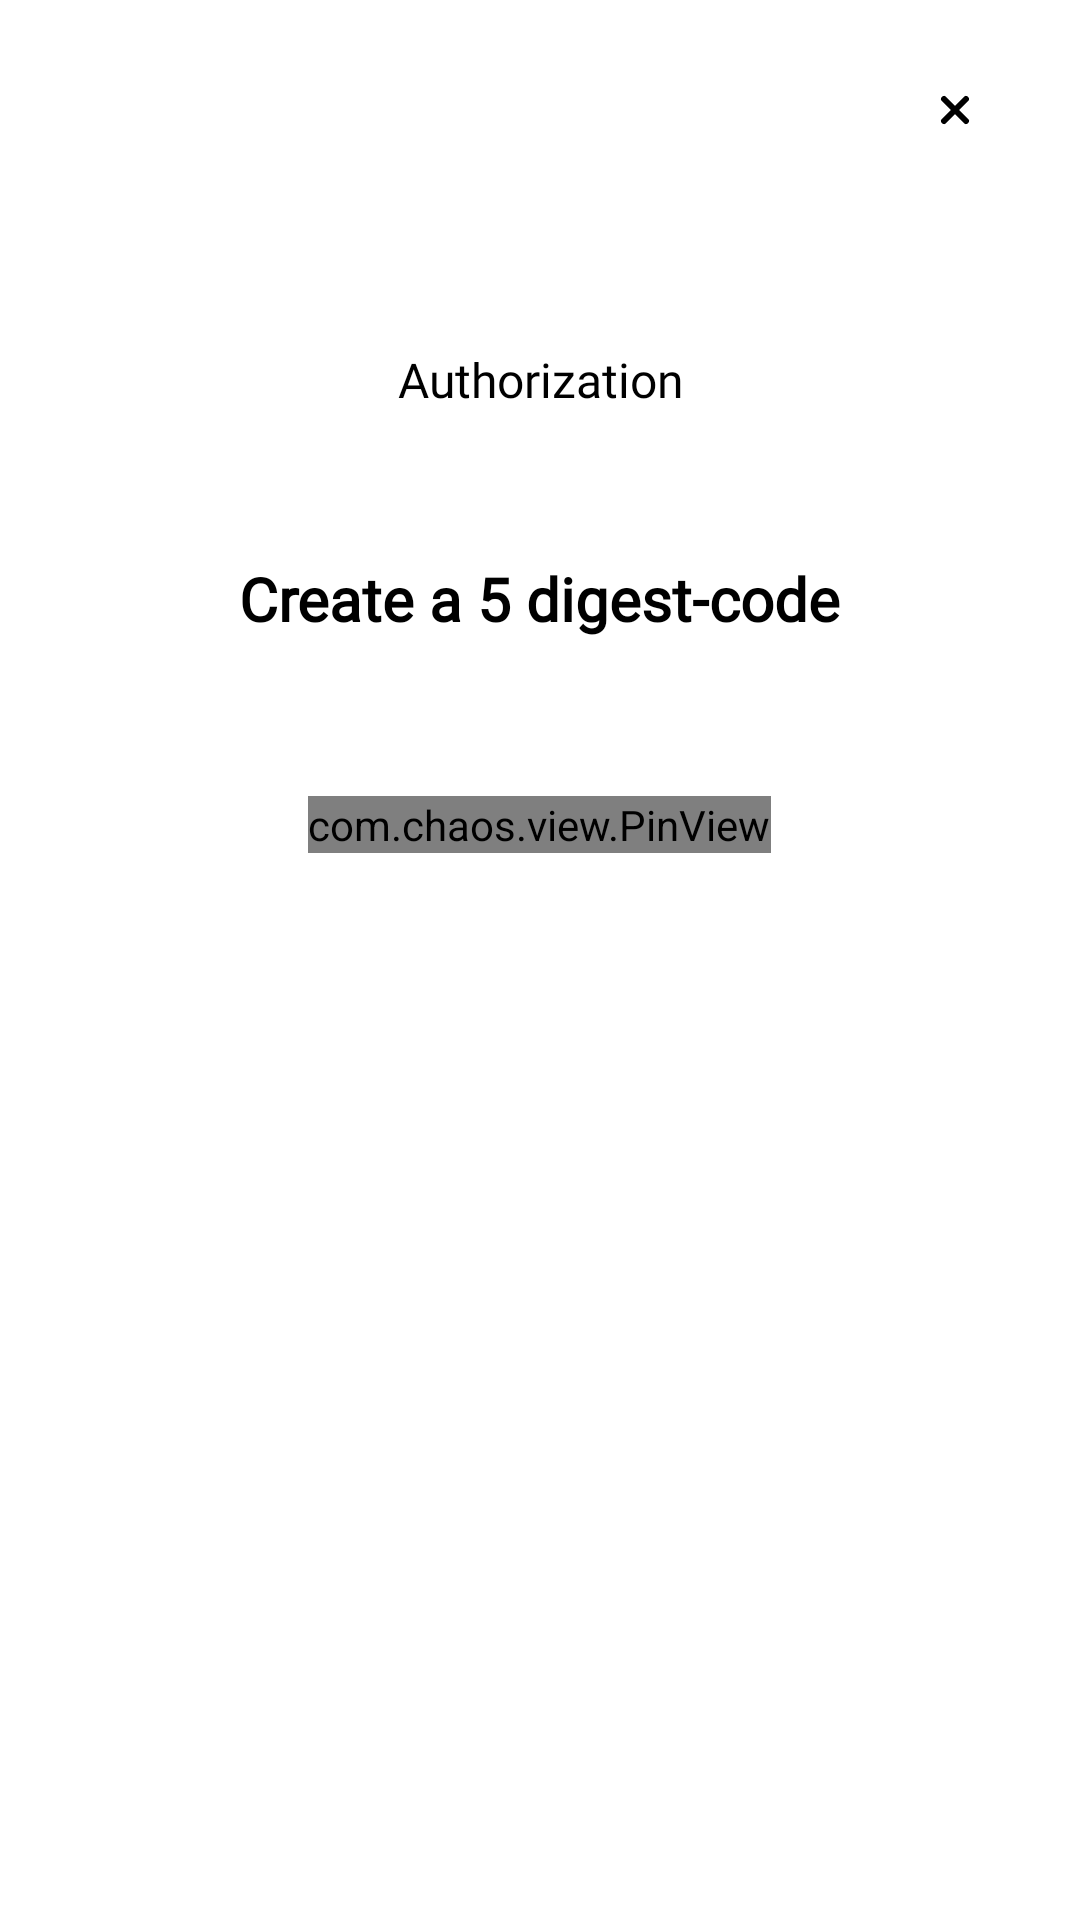

Screen size 1080 × 1920. Icon name, then its center in pixels as point (x, y):
close auth: point (955, 110)
